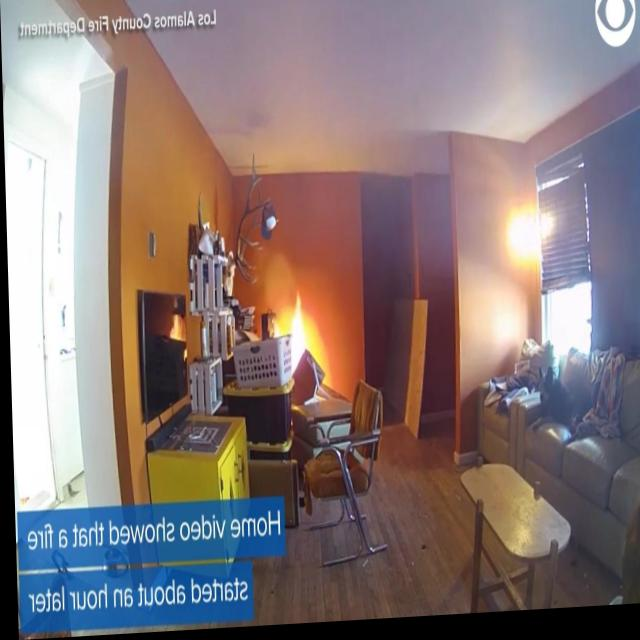fire: (284, 289, 308, 376)
